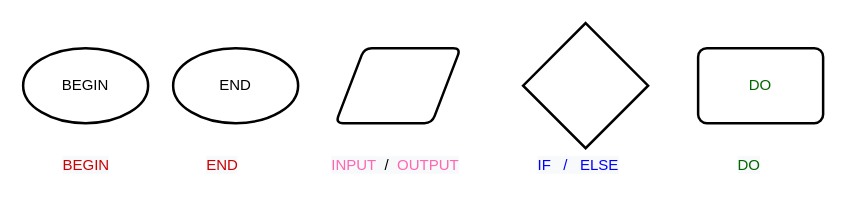
This 845x206 diagram has some shape labels left out. Here are the shapes that lost their labels. From the top down, the centre of each, then its label:
(x=397, y=85): INPUT/OUTPUT
(x=585, y=85): IF/ELSE
